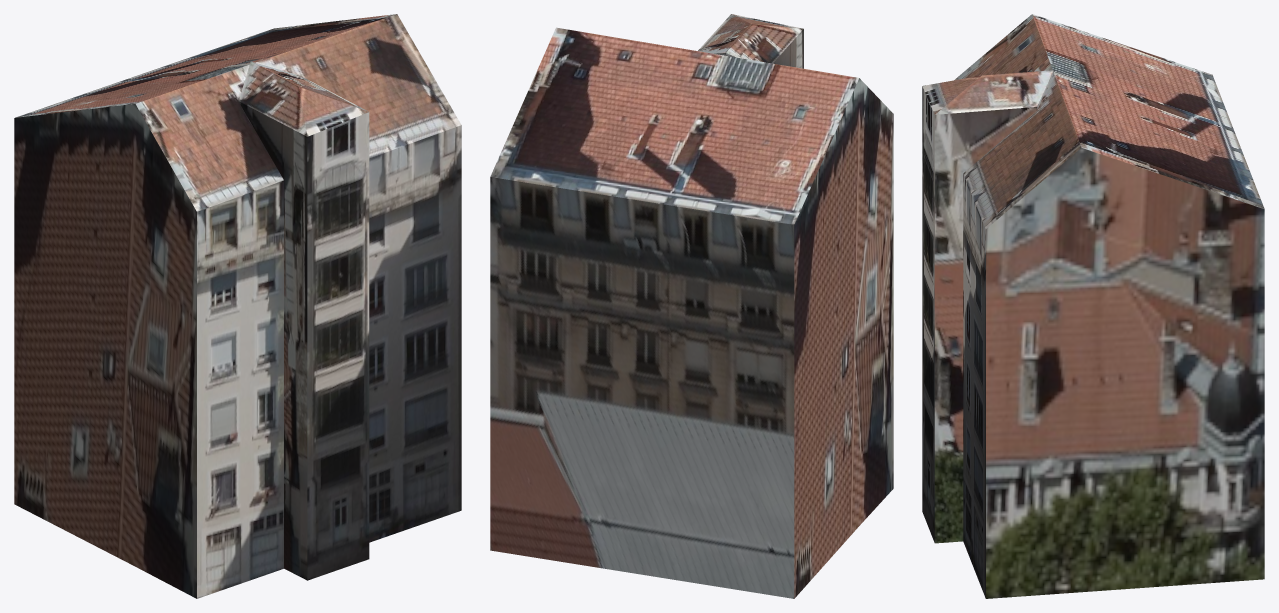
3 views of the same model, side by side, from view 1: azimuth 30°, elevation 25°; view 2: azimuth 150°, elevation 25°; view 3: azimuth 270°, elevation 25° (orthographic). The views are drawn at different scales.
Visible parts, largest first — view 1: Z_UP; view 2: Z_UP; view 3: Z_UP.
Part boxes in pixels (<box>): Z_UP: <box>14,14,461,598</box>; Z_UP: <box>490,14,893,598</box>; Z_UP: <box>922,14,1264,598</box>.
Size of the model in its own units: 19.42 by 26.3 by 18.28.
1 material, 1 textured.
